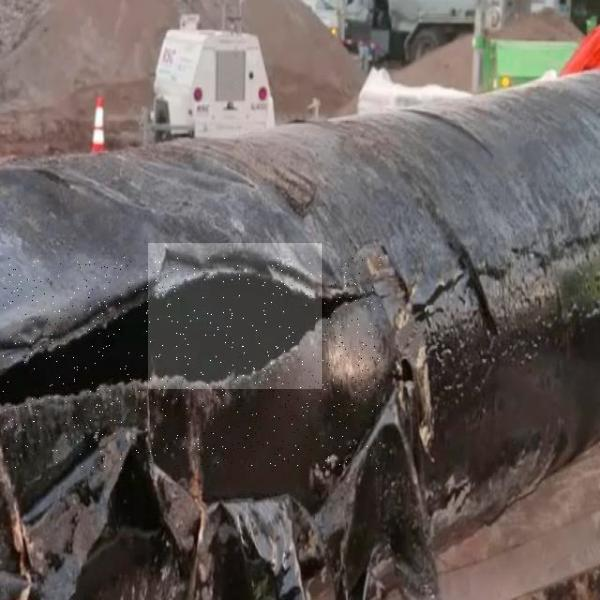crack: (148, 243, 322, 389)
